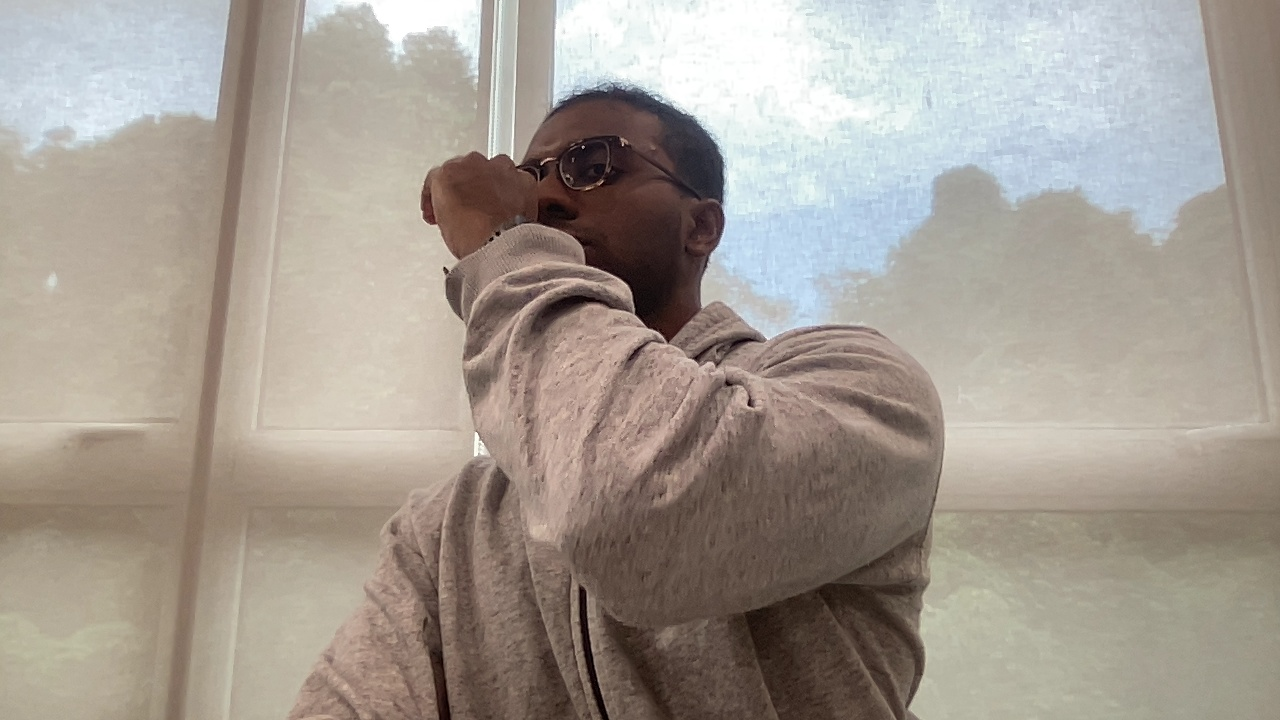drink: (418, 154, 546, 264)
